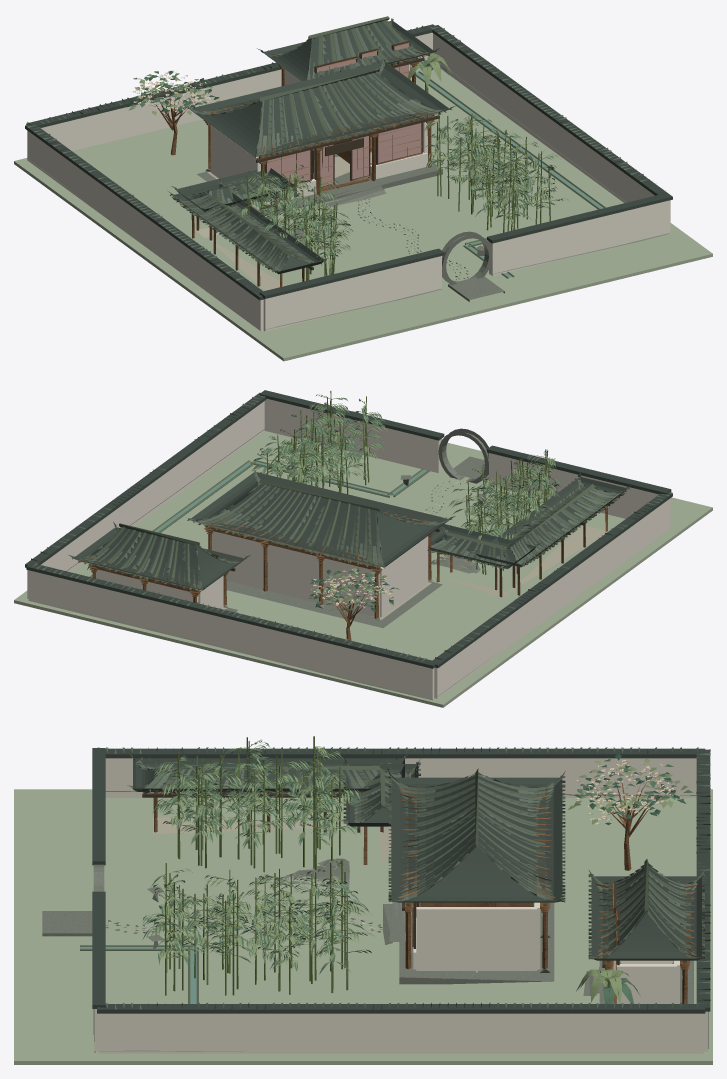
File: xiaoxiangguan.glb
3 renders of one model, top to bottom at view 1: azimuth 30°, elevation 25°; view 2: azimuth 150°, elevation 25°; view 3: azimuth 270°, elevation 25°, orthographic. The views are drawn at different scales.
Parts seen in each view (by area): view 1: xiaoxiangguan_earth.001, xiaoxiangguan_plaster.001, xiaoxiangguan_roof.001, xiaoxiangguan_lightleaf.001, xiaoxiangguan_tiledark, xiaoxiangguan_leaf.001, xiaoxiangguan_tile.001, xiaoxiangguan_bamboo.001, xiaoxiangguan_stone.001, xiaoxiangguan_wood.001, xiaoxiangguan_silk, xiaoxiangguan_darkwood.001 (+5 smaller); view 2: xiaoxiangguan_plaster.001, xiaoxiangguan_earth.001, xiaoxiangguan_roof.001, xiaoxiangguan_tiledark, xiaoxiangguan_lightleaf.001, xiaoxiangguan_leaf.001, xiaoxiangguan_tile.001, xiaoxiangguan_bamboo.001, xiaoxiangguan_stone.001, xiaoxiangguan_wood.001, xiaoxiangguan_tilelight, xiaoxiangguan_paving (+3 smaller); view 3: xiaoxiangguan_earth.001, xiaoxiangguan_roof.001, xiaoxiangguan_plaster.001, xiaoxiangguan_lightleaf.001, xiaoxiangguan_leaf.001, xiaoxiangguan_bamboo.001, xiaoxiangguan_tiledark, xiaoxiangguan_tile.001, xiaoxiangguan_stone.001, xiaoxiangguan_wood.001, xiaoxiangguan_tilelight, xiaoxiangguan_paving (+6 smaller).
Boxes of the visible parts, box(x1,y1,x2,y2) form: xiaoxiangguan_earth.001: box(14, 67, 712, 361); xiaoxiangguan_plaster.001: box(27, 32, 670, 331); xiaoxiangguan_roof.001: box(25, 20, 672, 300); xiaoxiangguan_lightleaf.001: box(128, 53, 563, 271); xiaoxiangguan_tiledark: box(167, 16, 455, 272); xiaoxiangguan_leaf.001: box(130, 60, 567, 265); xiaoxiangguan_tile.001: box(27, 22, 659, 296); xiaoxiangguan_bamboo.001: box(239, 53, 562, 280); xiaoxiangguan_stone.001: box(27, 61, 668, 329); xiaoxiangguan_wood.001: box(149, 42, 442, 286); xiaoxiangguan_silk: box(267, 43, 421, 186); xiaoxiangguan_darkwood.001: box(246, 40, 439, 270); xiaoxiangguan_plaster.001: box(27, 398, 670, 699); xiaoxiangguan_earth.001: box(14, 431, 712, 707); xiaoxiangguan_roof.001: box(25, 390, 672, 668); xiaoxiangguan_tiledark: box(68, 470, 631, 590); xiaoxiangguan_lightleaf.001: box(252, 395, 560, 610); xiaoxiangguan_leaf.001: box(87, 394, 563, 610); xiaoxiangguan_tile.001: box(31, 392, 672, 664); xiaoxiangguan_bamboo.001: box(262, 391, 554, 574); xiaoxiangguan_stone.001: box(29, 428, 495, 700); xiaoxiangguan_wood.001: box(78, 479, 618, 640); xiaoxiangguan_tilelight: box(81, 472, 624, 589); xiaoxiangguan_paving: box(223, 479, 608, 619); xiaoxiangguan_earth.001: box(14, 789, 712, 1064); xiaoxiangguan_roof.001: box(92, 748, 710, 1013); xiaoxiangguan_plaster.001: box(94, 758, 707, 1053); xiaoxiangguan_lightleaf.001: box(142, 740, 688, 1003); xiaoxiangguan_leaf.001: box(142, 740, 693, 1003); xiaoxiangguan_bamboo.001: box(149, 736, 637, 1003); xiaoxiangguan_tiledark: box(127, 752, 705, 959); xiaoxiangguan_tile.001: box(97, 747, 710, 1009); xiaoxiangguan_stone.001: box(42, 791, 708, 1052); xiaoxiangguan_wood.001: box(144, 764, 701, 1003); xiaoxiangguan_tilelight: box(142, 758, 702, 955); xiaoxiangguan_paving: box(105, 817, 673, 972).
Size of the model in its own units: 34 by 7.26 by 37.
Materials: 19 (2 with a texture image).
